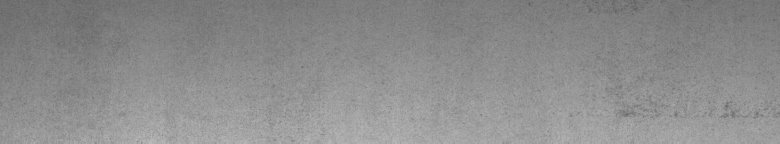ib: (587, 5, 775, 123)
